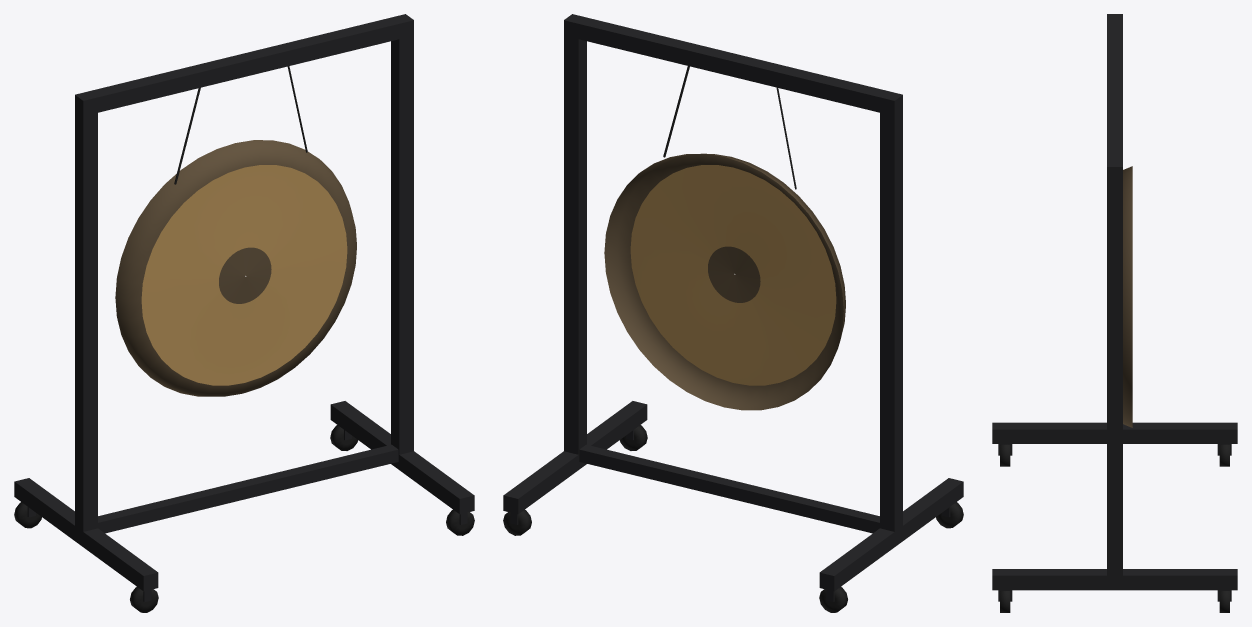
The model's file is gong-32.glb.
3 renders of one model, left to right at view 1: azimuth 30°, elevation 25°; view 2: azimuth 150°, elevation 25°; view 3: azimuth 270°, elevation 25°, orthographic. The views are drawn at different scales.
Parts seen in each view (by area): view 1: frame, gong, gong-dark, rubber; view 2: frame, gong, gong-dark, rubber; view 3: frame, gong-dark, rubber.
Boxes of the visible parts, left/top/right/bottom form: frame: left=14, top=14, right=474, bottom=602; gong: left=141, top=165, right=347, bottom=385; gong-dark: left=115, top=140, right=356, bottom=396; rubber: left=14, top=66, right=474, bottom=612; frame: left=503, top=14, right=963, bottom=602; gong: left=630, top=165, right=836, bottom=385; gong-dark: left=604, top=153, right=845, bottom=410; rubber: left=503, top=66, right=963, bottom=612; frame: left=992, top=14, right=1237, bottom=601; gong-dark: left=1123, top=166, right=1132, bottom=427; rubber: left=1000, top=444, right=1229, bottom=612.
Size of the model in its own units: 1.15 by 1.53 by 0.76.
